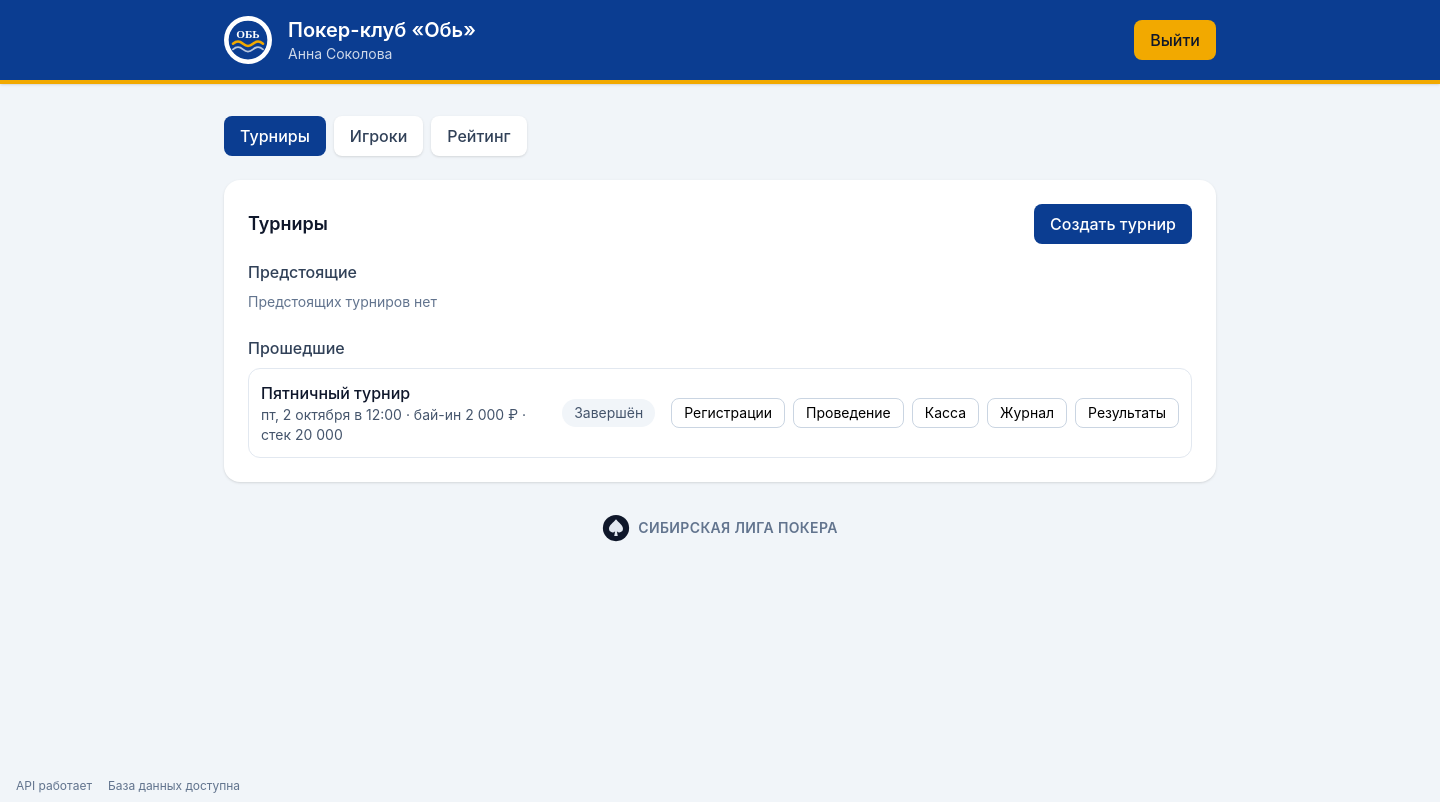
tournament results › leaves the places as they were when the correction is cancelled or fails
Click the button "Результаты".
click(1127, 413)  # box [1075,398,1179,428]
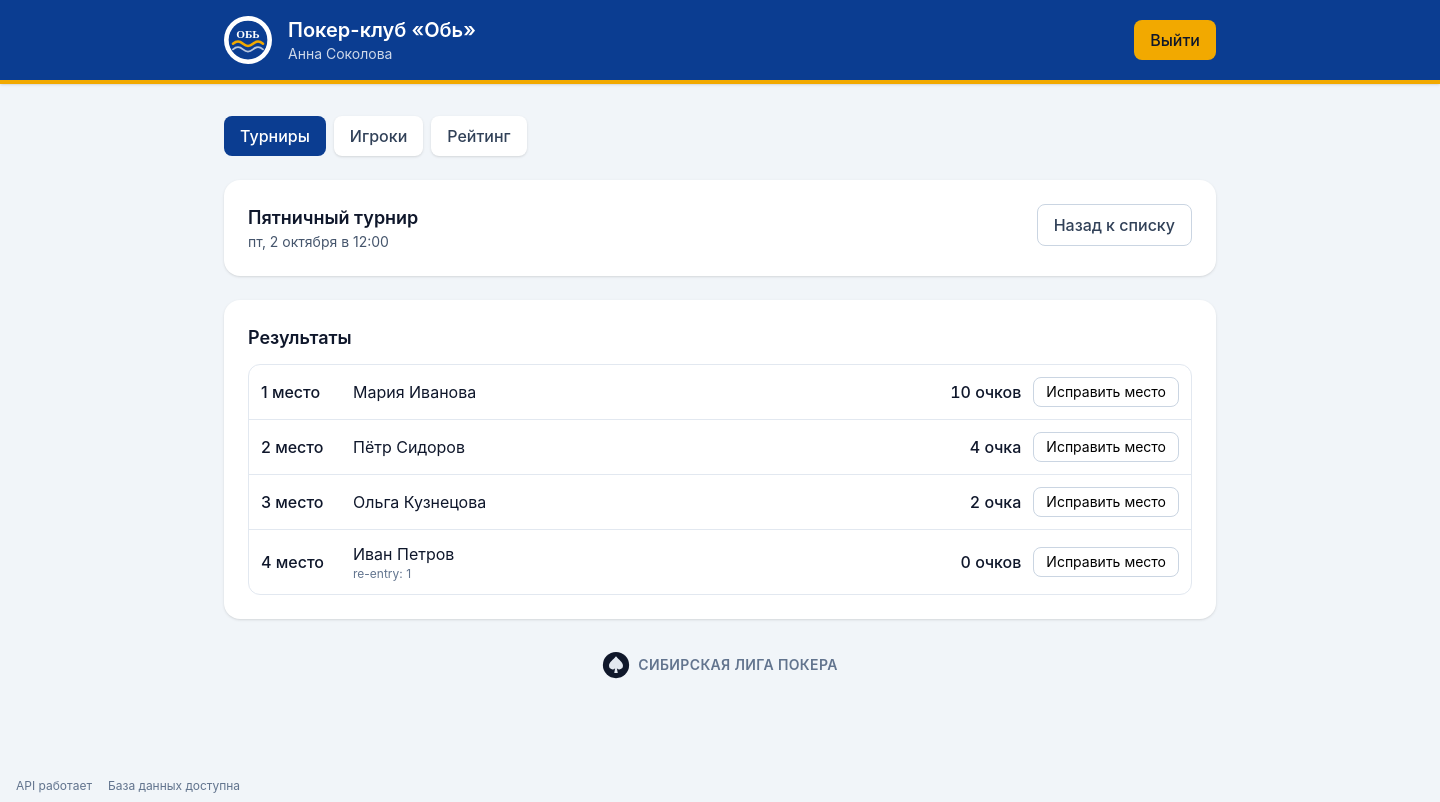
Now the heading "Пятничный турнир" is shown, box [248,204,418,232]
Click the button "Исправить место" in the row of "Иван Петров".
click(1106, 562)  # box [1033,547,1179,577]
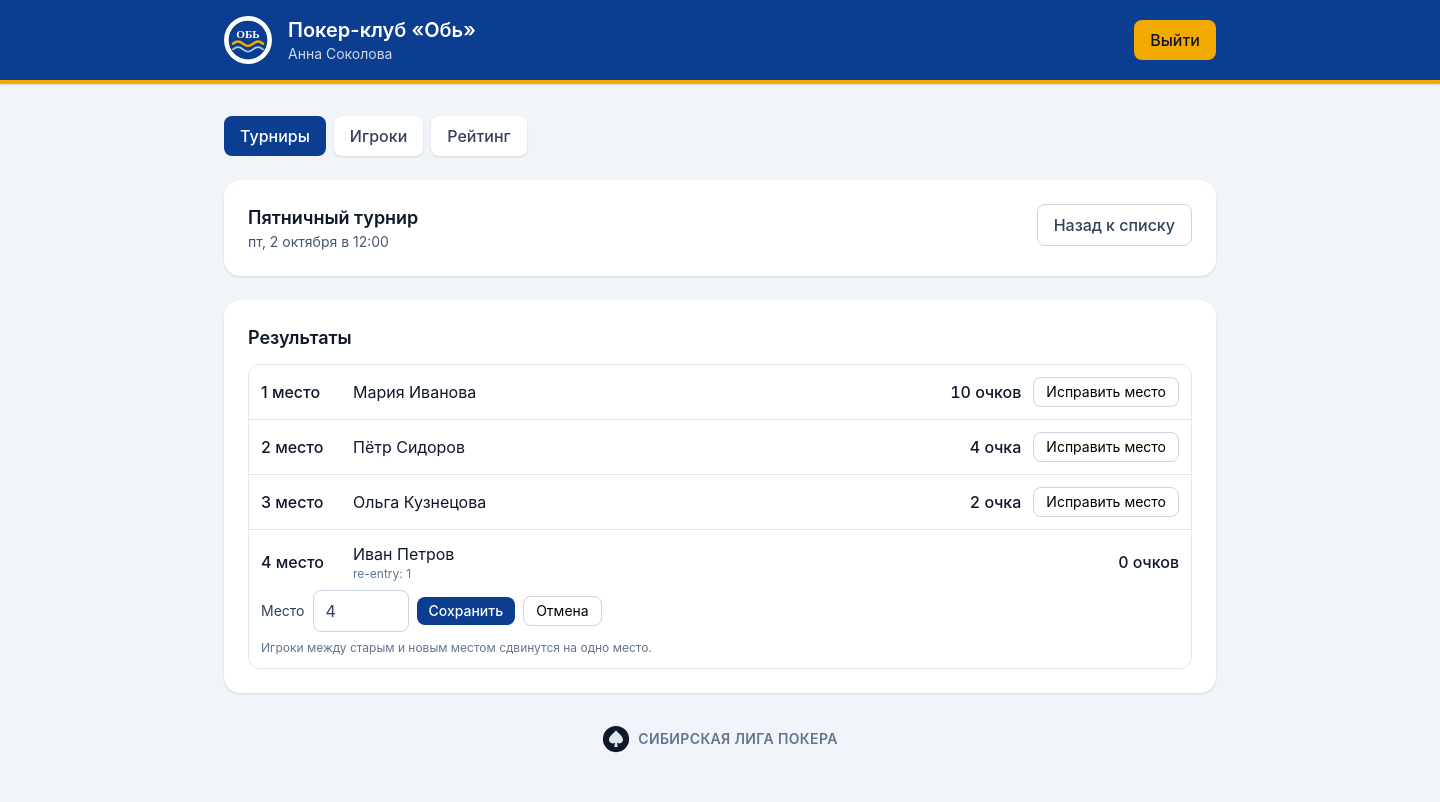
Click the button "Отмена".
click(562, 611)  # box [523,596,602,626]
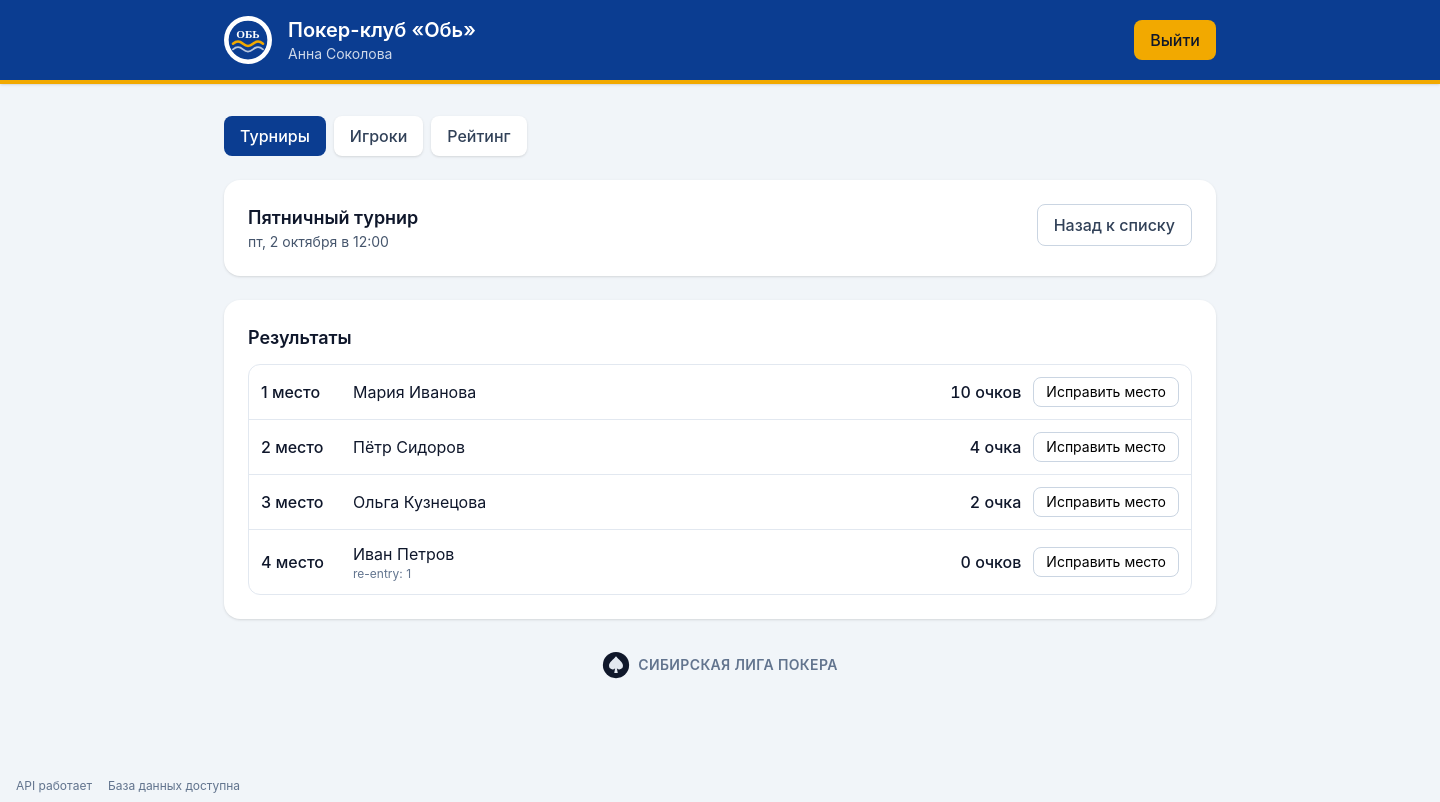
Now the form is gone
Click the button "Исправить место" in the row of "Иван Петров".
click(1106, 562)  # box [1033,547,1179,577]
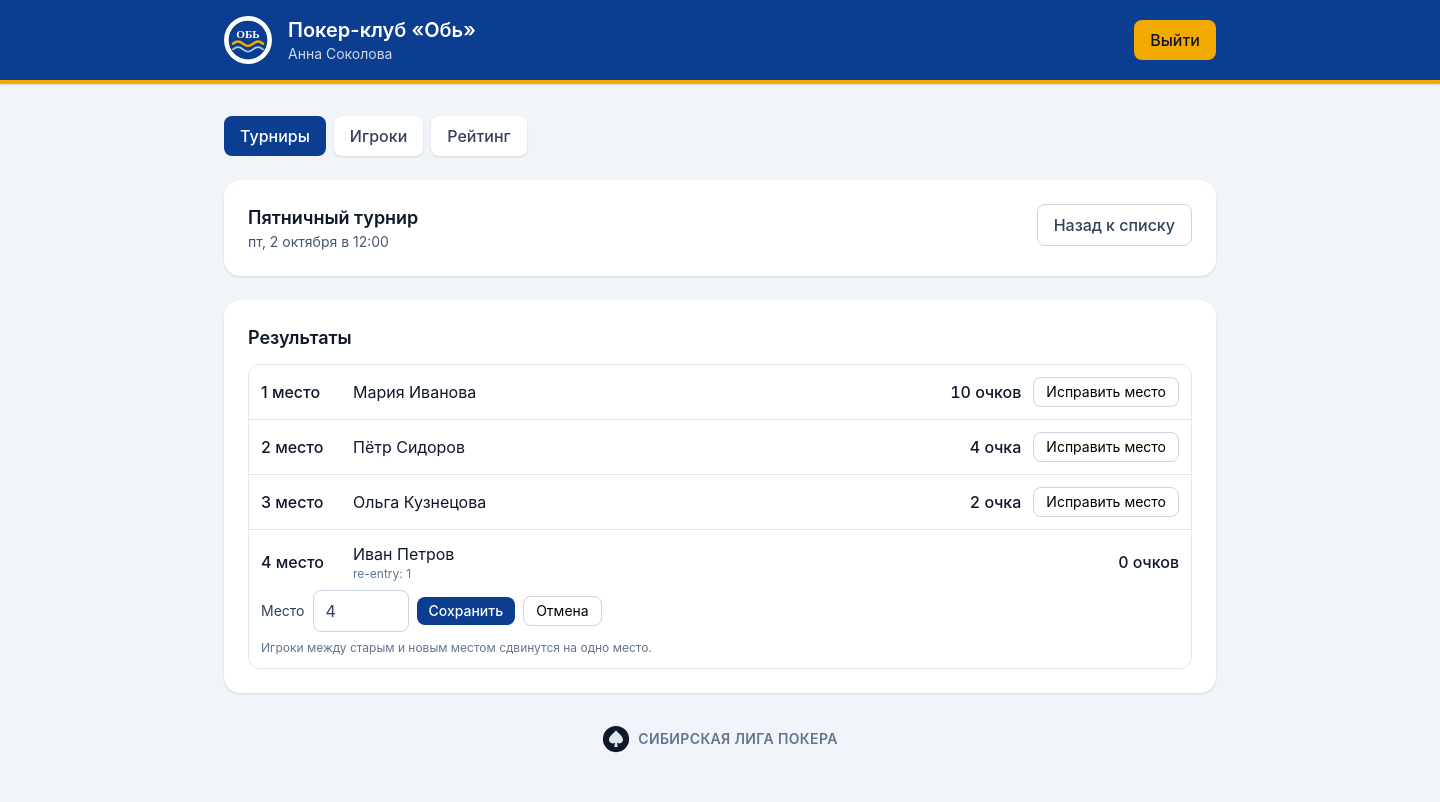
Replace the text in the number field labelled "Место" with "1" at x=360, y=611, box [312,590,408,632]
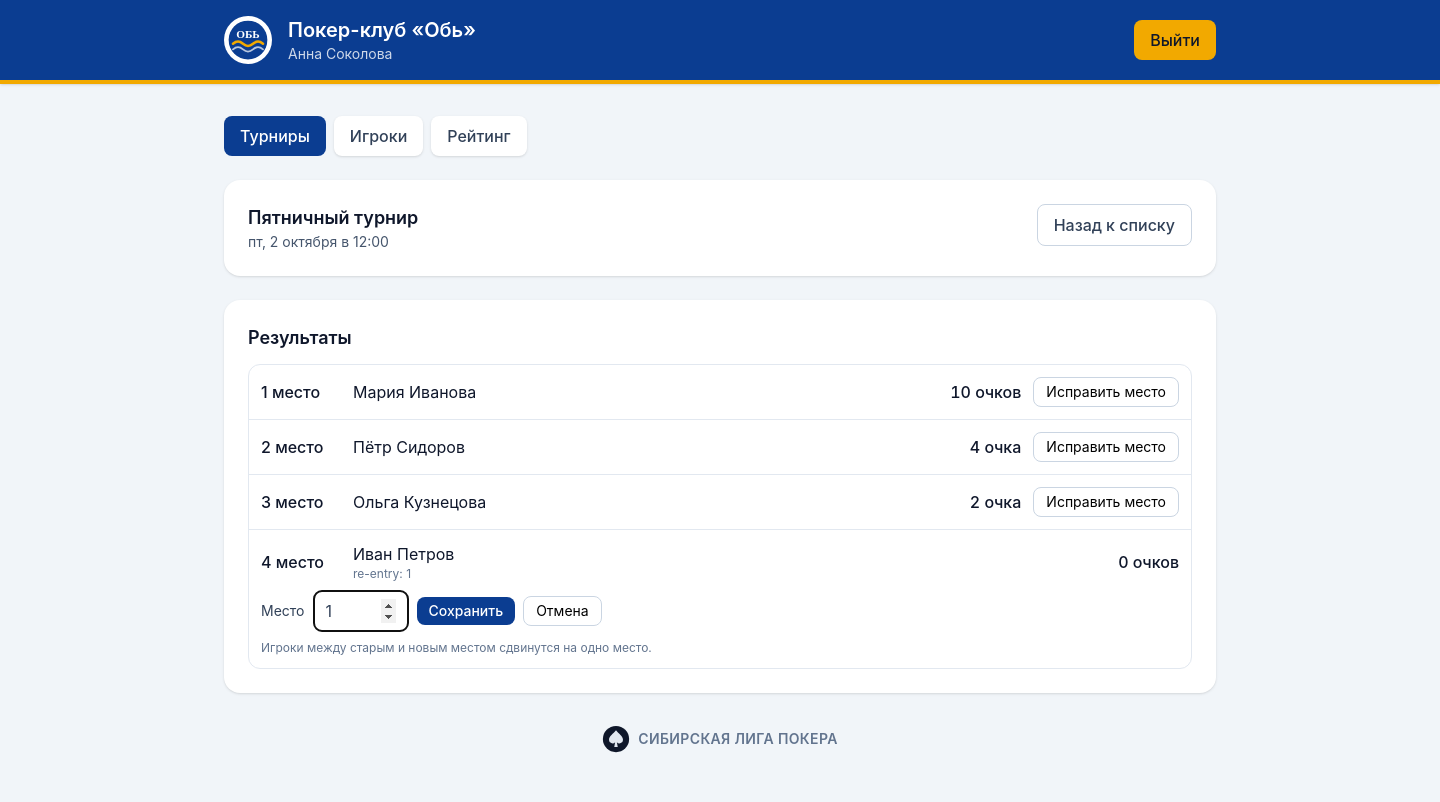
Click the button "Сохранить".
click(466, 611)  # box [416,597,515,625]
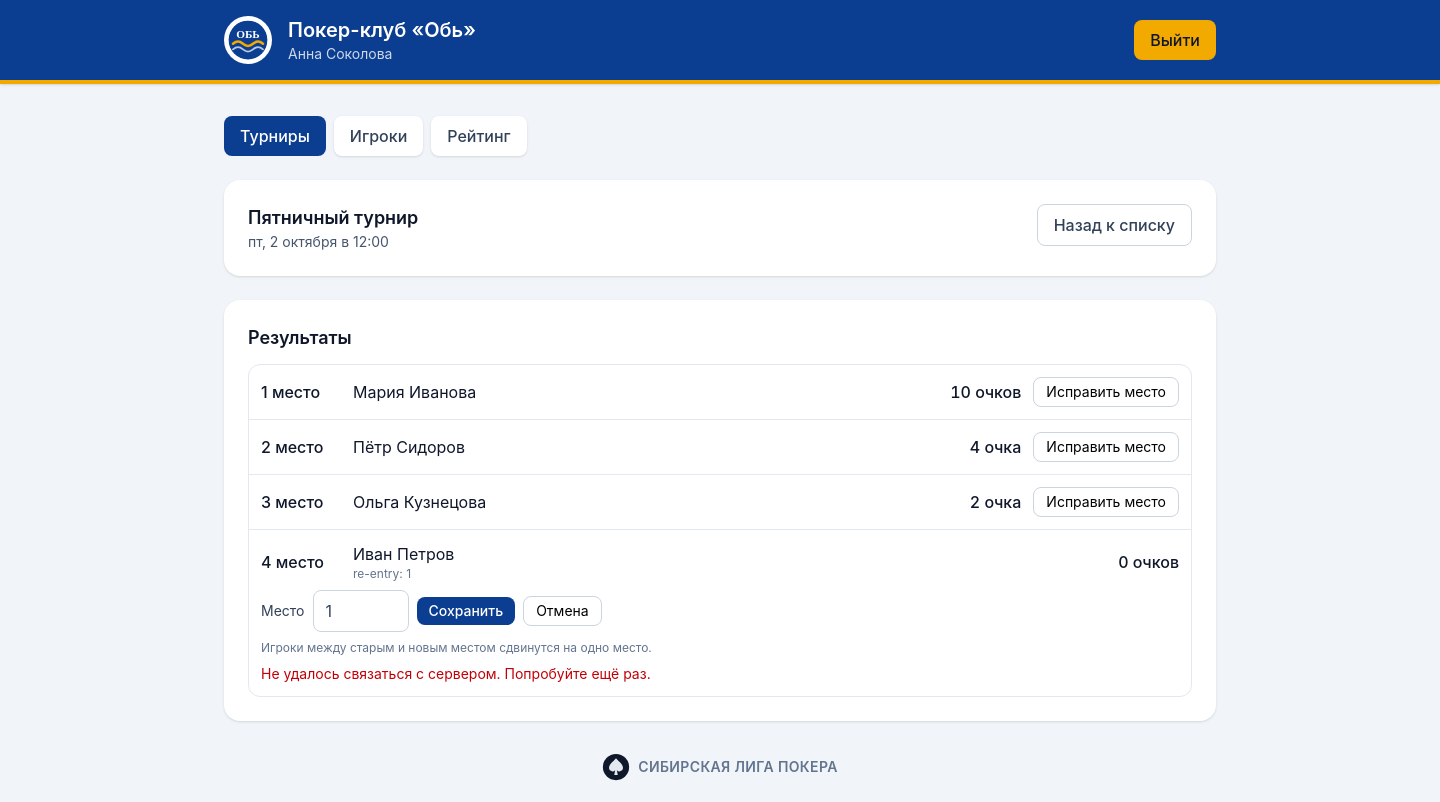
Now the message shows "Не удалось связаться с сервером", box [261,665,651,682]
